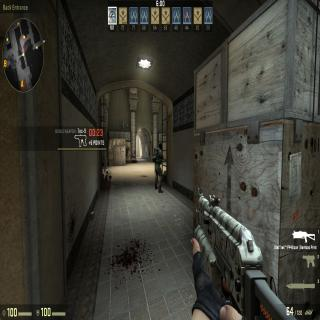CT-Body: (154, 142, 164, 193)
CT-Head: (158, 142, 163, 150)
